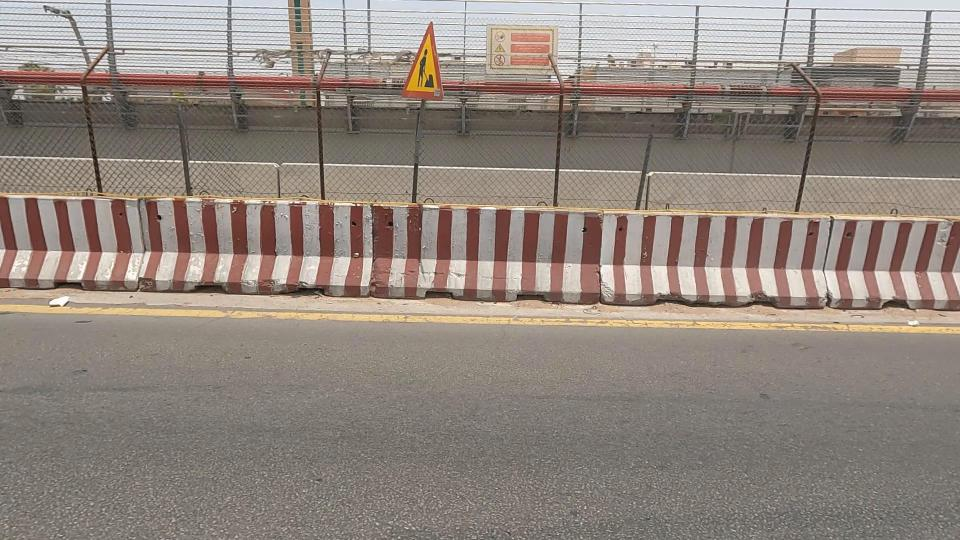CONSTRUCTION_ROAD: (108, 0, 920, 387), (0, 11, 429, 404)
